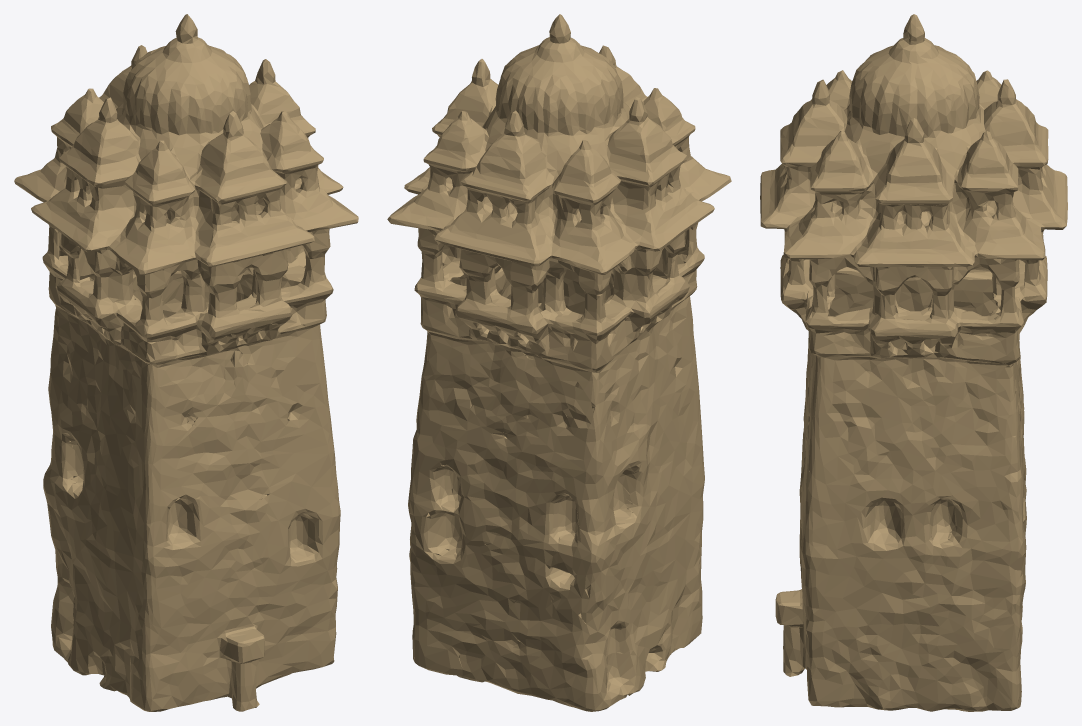
File: khublada_buruj_coloured_final.glb
The picture shows the model from 3 angles, left to right: view 1: azimuth 30°, elevation 25°; view 2: azimuth 150°, elevation 25°; view 3: azimuth 270°, elevation 25°; orthographic projection. The views are drawn at different scales.
Visible parts, largest first — view 1: tmpk8xq8i2v.ply; view 2: tmpk8xq8i2v.ply; view 3: tmpk8xq8i2v.ply.
Part boxes in pixels (x1=…): tmpk8xq8i2v.ply: x1=14, y1=14, x2=358, y2=711; tmpk8xq8i2v.ply: x1=387, y1=14, x2=731, y2=711; tmpk8xq8i2v.ply: x1=760, y1=14, x2=1067, y2=711.
Size of the model in its own units: 0.8141 by 1.96 by 0.83.
